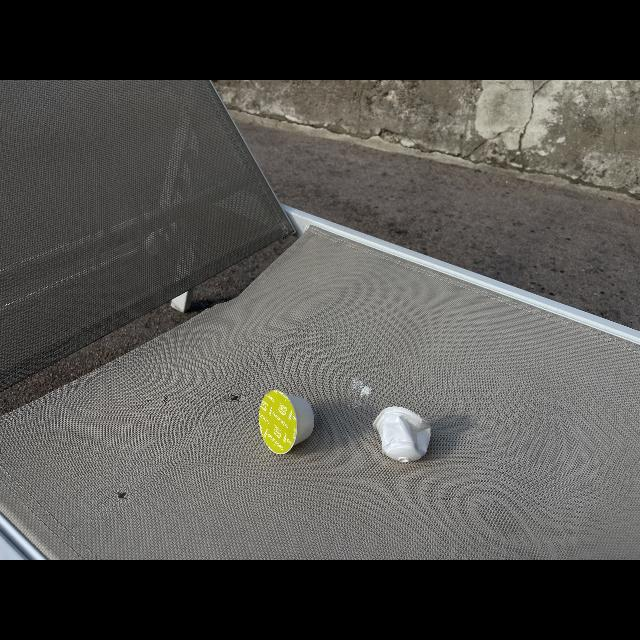damaged_capsule: (368, 404, 437, 466)
intact_capsule: (257, 388, 319, 457)
